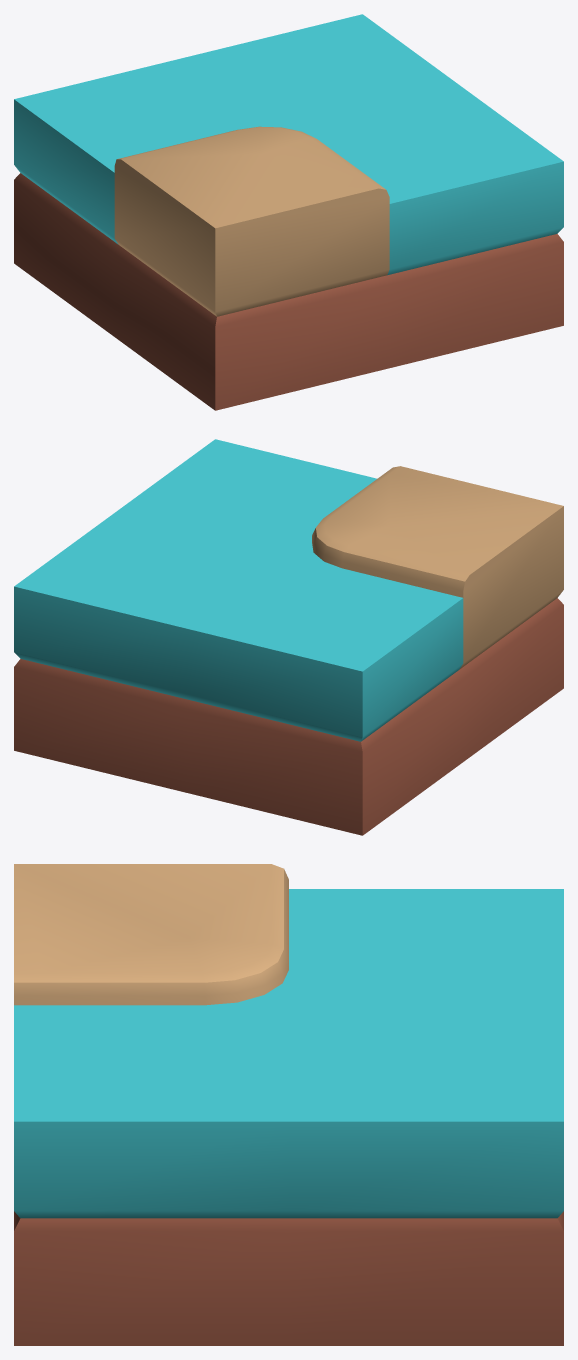
Rendered from square_sand_waterOuterCorner.glb.
3 renders of one model, top to bottom at view 1: azimuth 30°, elevation 25°; view 2: azimuth 150°, elevation 25°; view 3: azimuth 270°, elevation 25°, orthographic. The views are drawn at different scales.
Visible parts, largest first — view 1: square_sand_waterOuterCorner; view 2: square_sand_waterOuterCorner; view 3: square_sand_waterOuterCorner.
Boxes of the visible parts, left/top/right/bottom form: square_sand_waterOuterCorner: left=14, top=14, right=563, bottom=410; square_sand_waterOuterCorner: left=14, top=439, right=563, bottom=835; square_sand_waterOuterCorner: left=14, top=864, right=563, bottom=1345.
Bounding box in the file's own units: 2 × 1 × 2.
